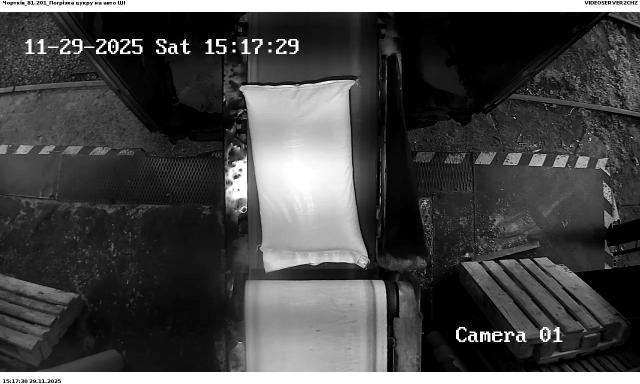bag: (241, 80, 372, 272)
